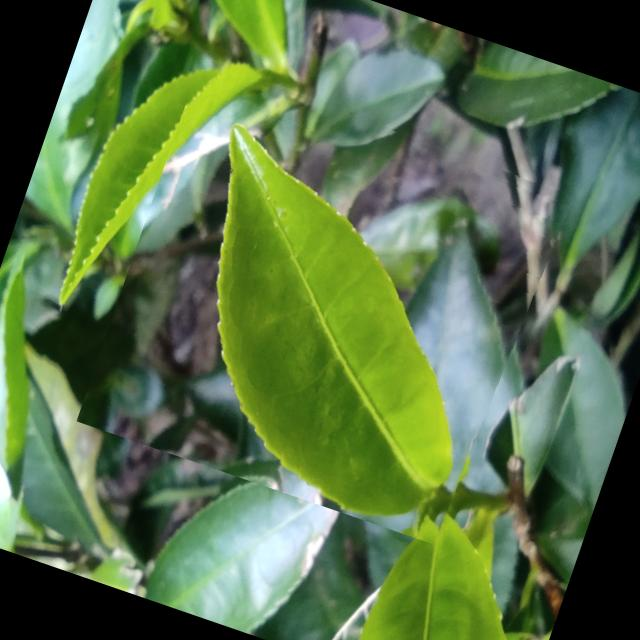Category C(4-7 days): (76, 58, 576, 549)
